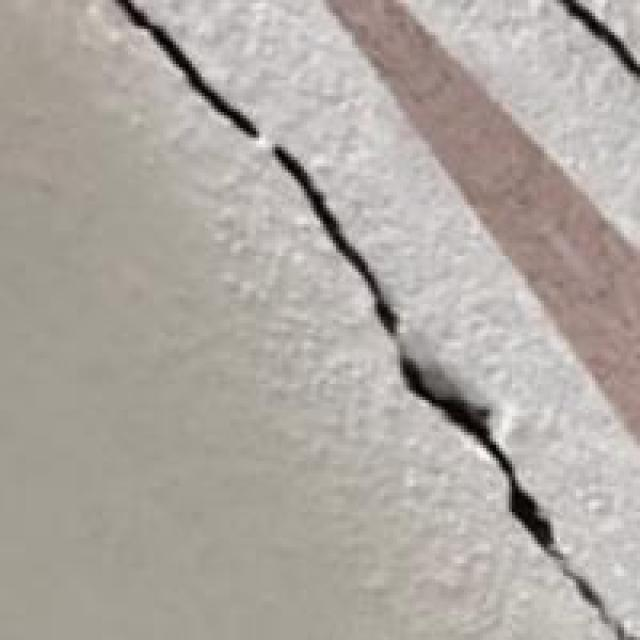Crack: (118, 0, 637, 634)
